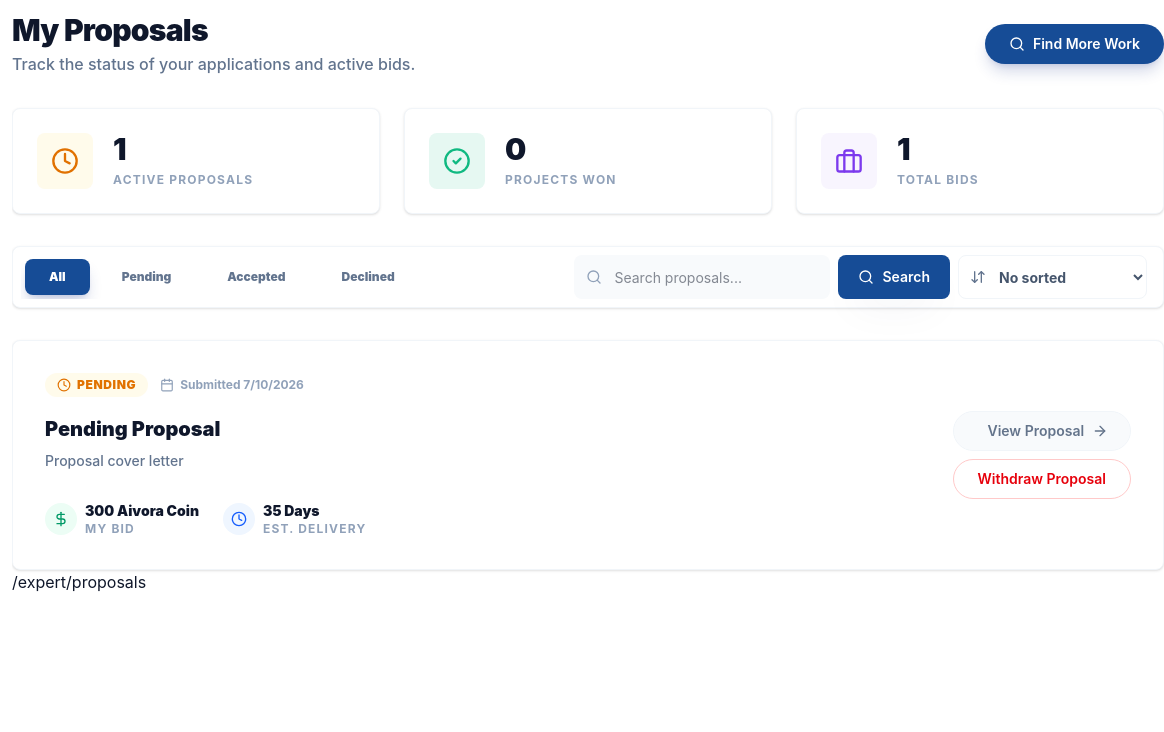
Test: ExpertMyProposalsPage › Title navigation › navigates a pending proposal title to the shared proposal detail page
Step 1. Click the link "Pending Proposal" → point(133, 430), box [45,417,220,442]
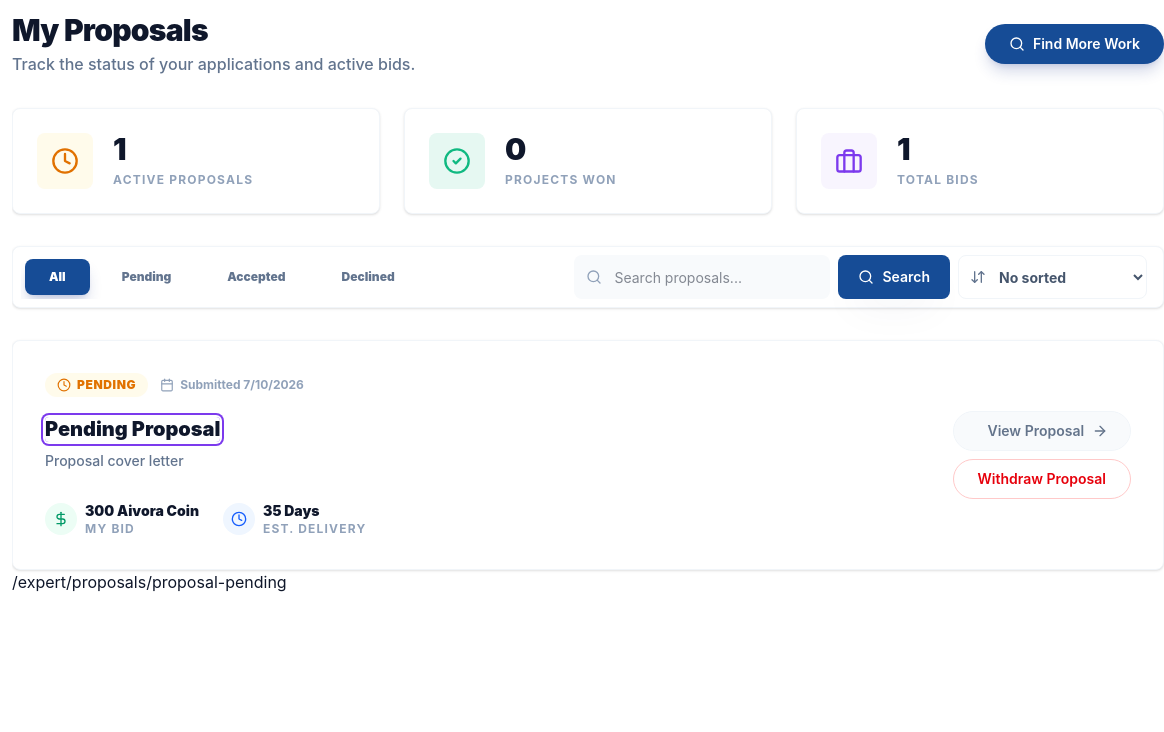
Expected: the text named "current path" reads "/expert/proposals/proposal-pending", [12,572,287,592]
